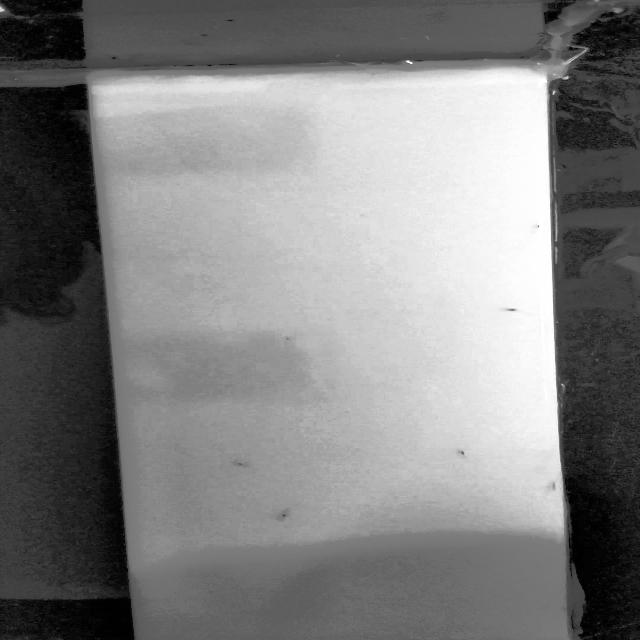shrimp: (489, 299, 527, 325), (440, 443, 486, 462), (255, 505, 298, 524), (221, 456, 256, 475)
